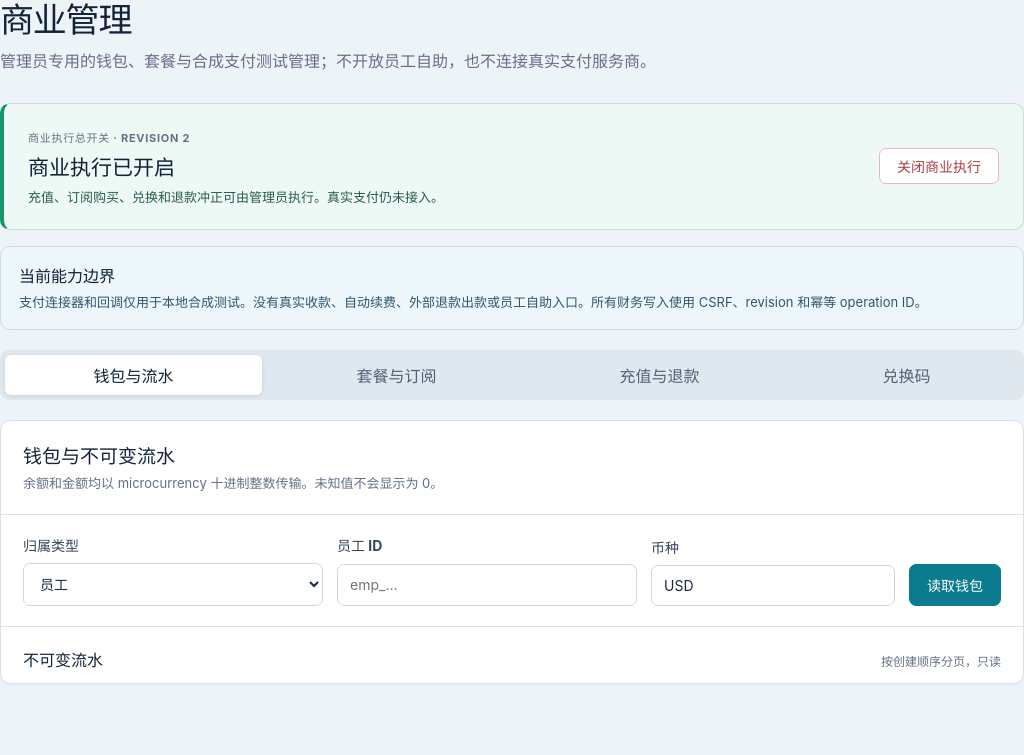
Test: administrator commercial management › keeps exact decimal strings and reuses the same adjustment operation after response loss
Expected: the heading "商业执行已开启" is shown, [28, 154, 175, 180]
In the field labelled "员工 ID": coordinates (487, 585) [337, 564, 637, 606], type "emp-1"
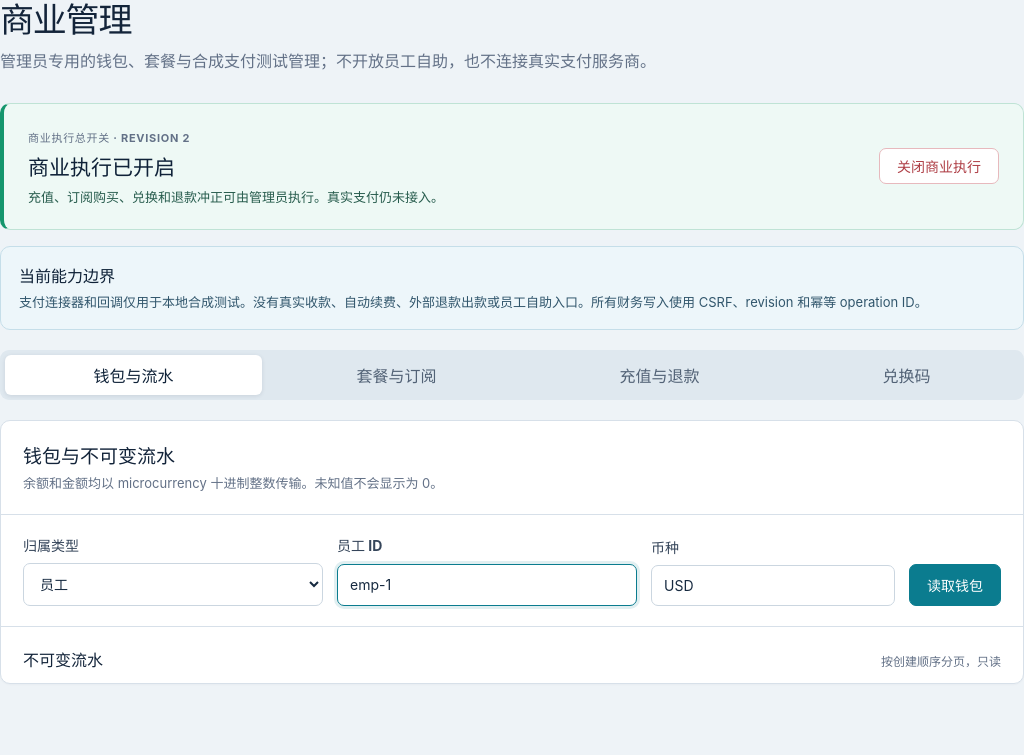
Click the button "读取钱包": coordinates (955, 585) [909, 564, 1001, 606]
(page scrolled)
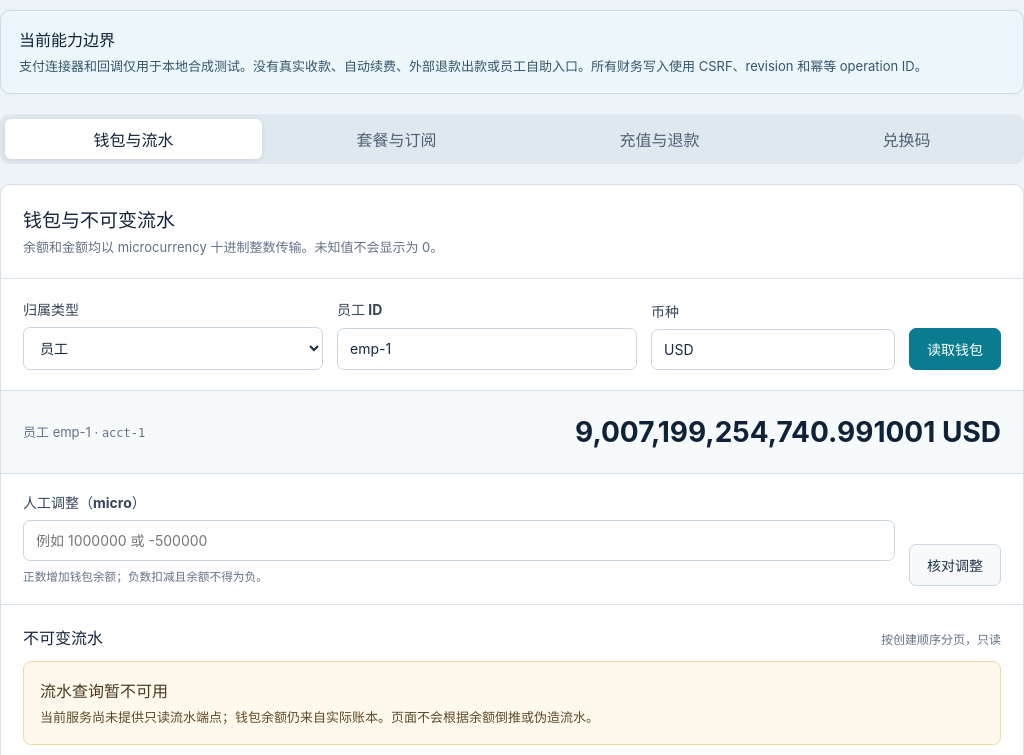
Now the text "9,007,199,254,740.991001 USD" is shown, box [575, 415, 1001, 449]
Now the text "流水查询暂不可用" is shown, box [40, 681, 168, 701]
In the field labelled "人工调整（micro）": coordinates (459, 540) [23, 520, 895, 561], type "123456789012345678"
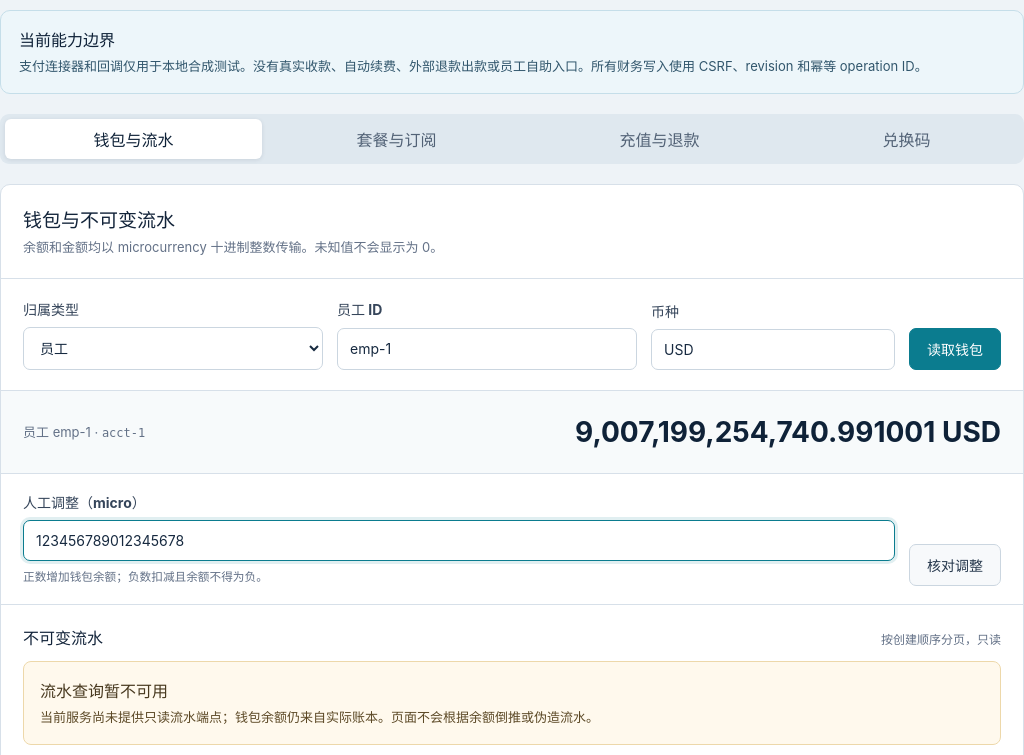
Click the button "核对调整": coordinates (955, 565) [909, 544, 1001, 586]
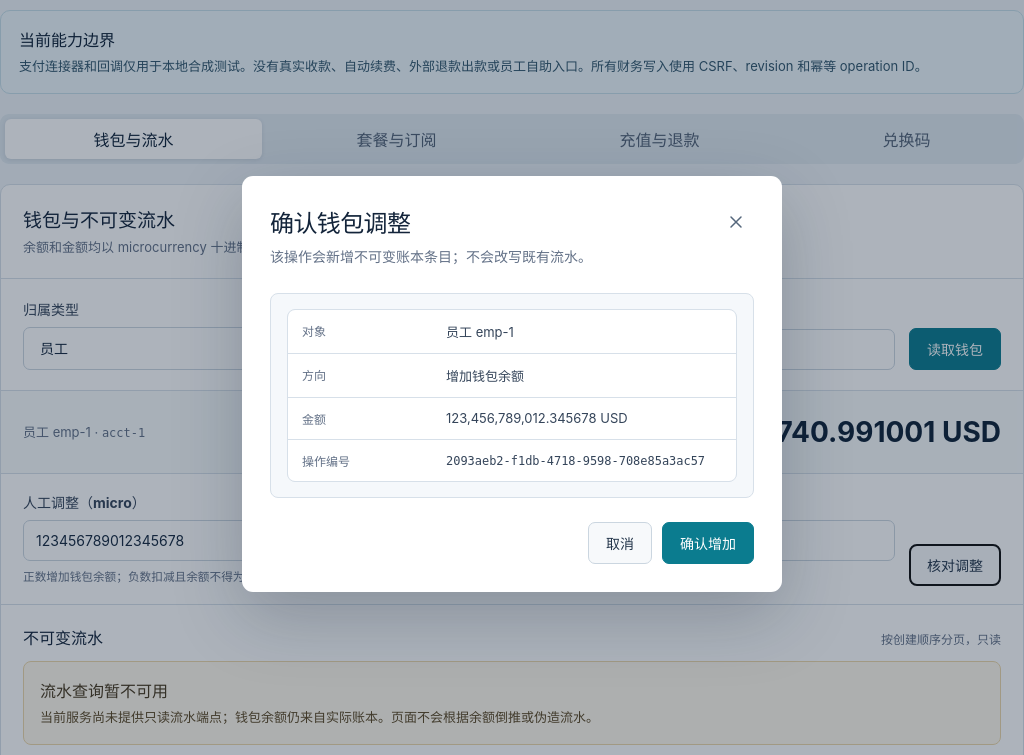
Now the text "123,456,789,012.345678 USD" is shown, box [446, 410, 628, 426]
Click the button "确认增加": coordinates (708, 543) [662, 522, 754, 564]
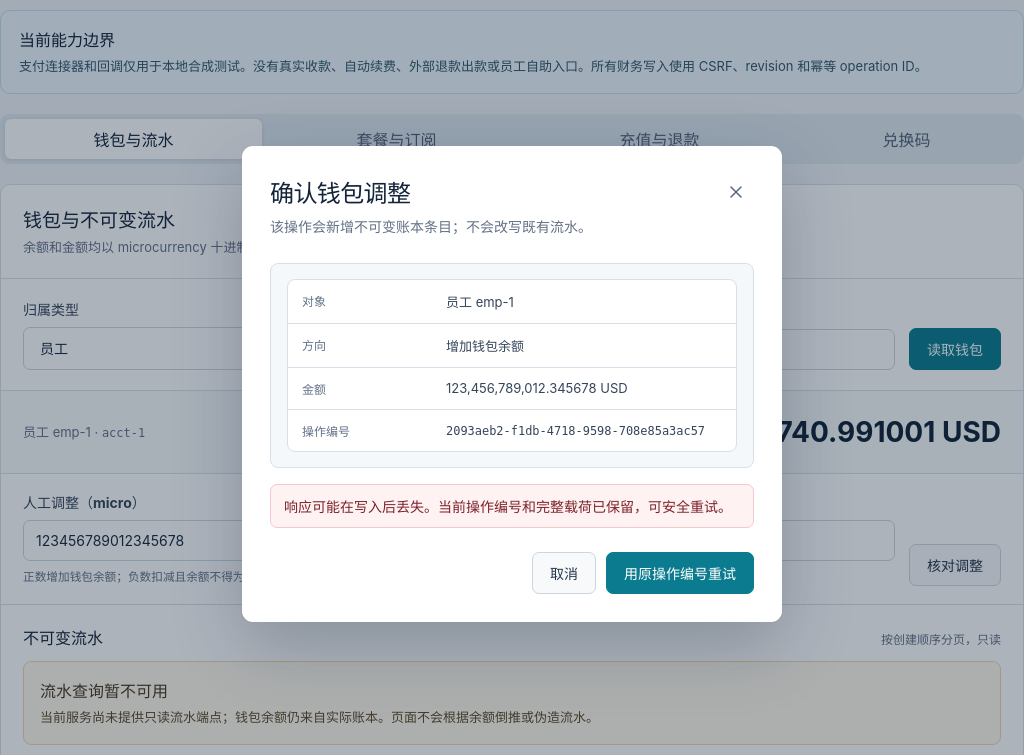
Now the message shows "响应可能在写入后丢失", box [284, 498, 732, 515]
Click the button "用原操作编号重试": coordinates (680, 573) [606, 552, 754, 594]
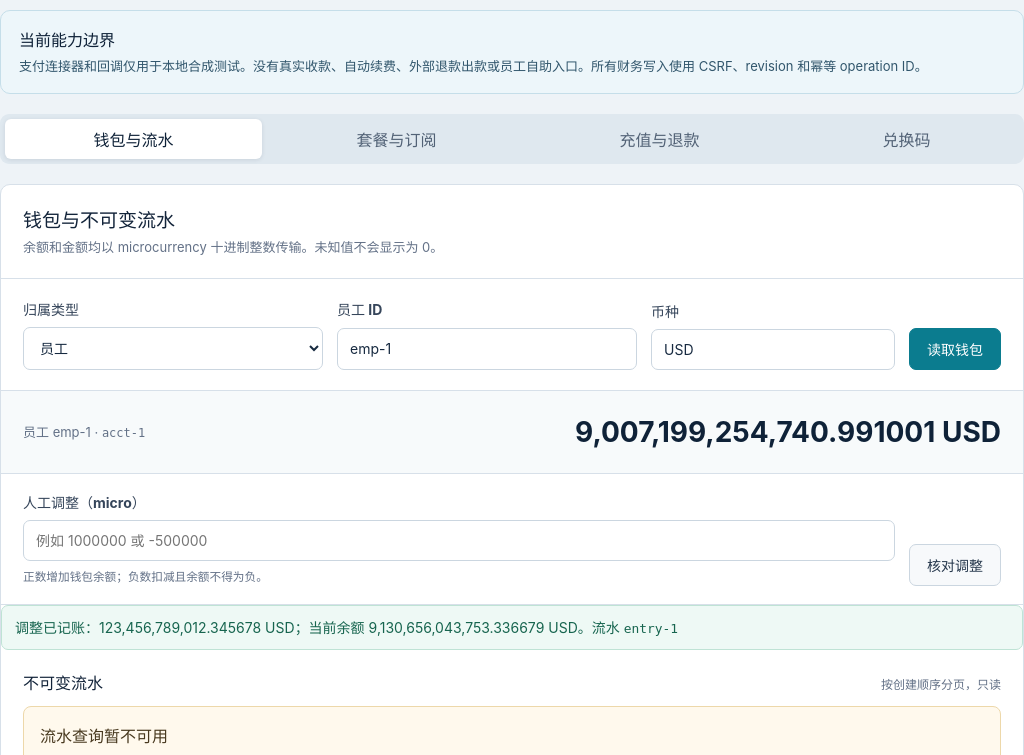
Now the dialog is gone
Now the text "调整已记账：123,456,789,012.345678 USD；当前余额 9,130,656,043,753.336679 USD。流水 entry-1" is shown, box [1, 605, 1023, 650]
